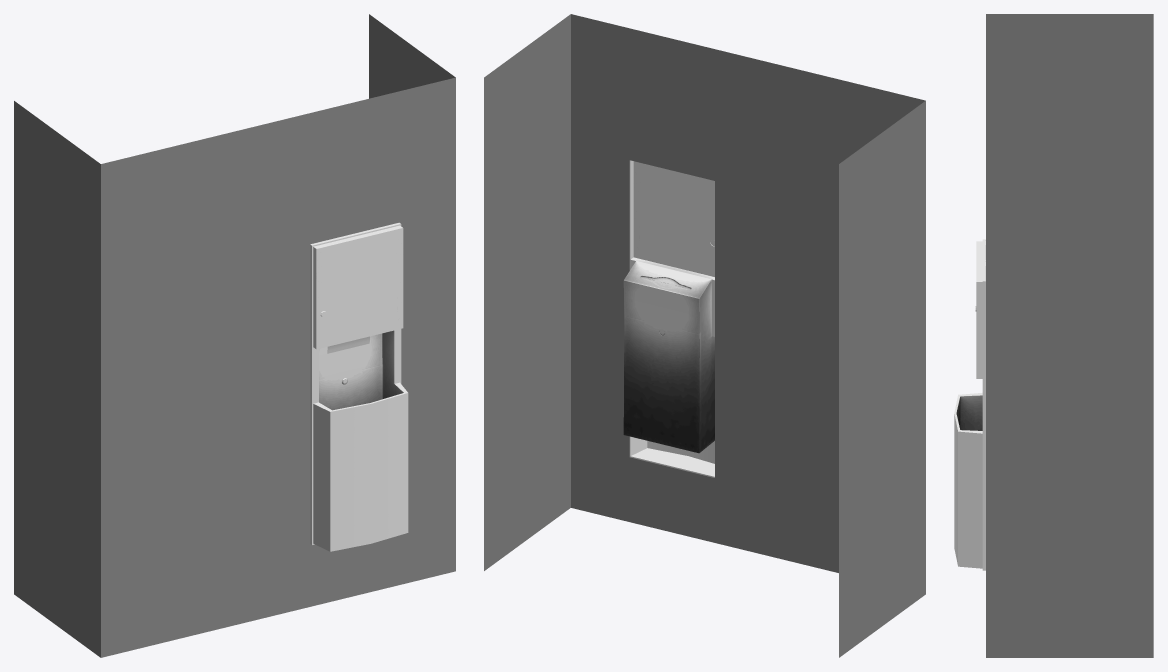
File: BathWallPillar-C.FBX
3 views of the same model, side by side, from view 1: azimuth 30°, elevation 25°; view 2: azimuth 150°, elevation 25°; view 3: azimuth 270°, elevation 25° (orthographic). The views are drawn at different scales.
Visible parts, largest first — view 1: BathWallPillar-C; view 2: BathWallPillar-C; view 3: BathWallPillar-C.
Boxes of the visible parts, x1,y1,x2,y2 form: BathWallPillar-C: [14, 14, 455, 657]; BathWallPillar-C: [484, 14, 925, 657]; BathWallPillar-C: [954, 14, 1153, 657].
Size of the model in its own units: 260 by 346 by 131.
